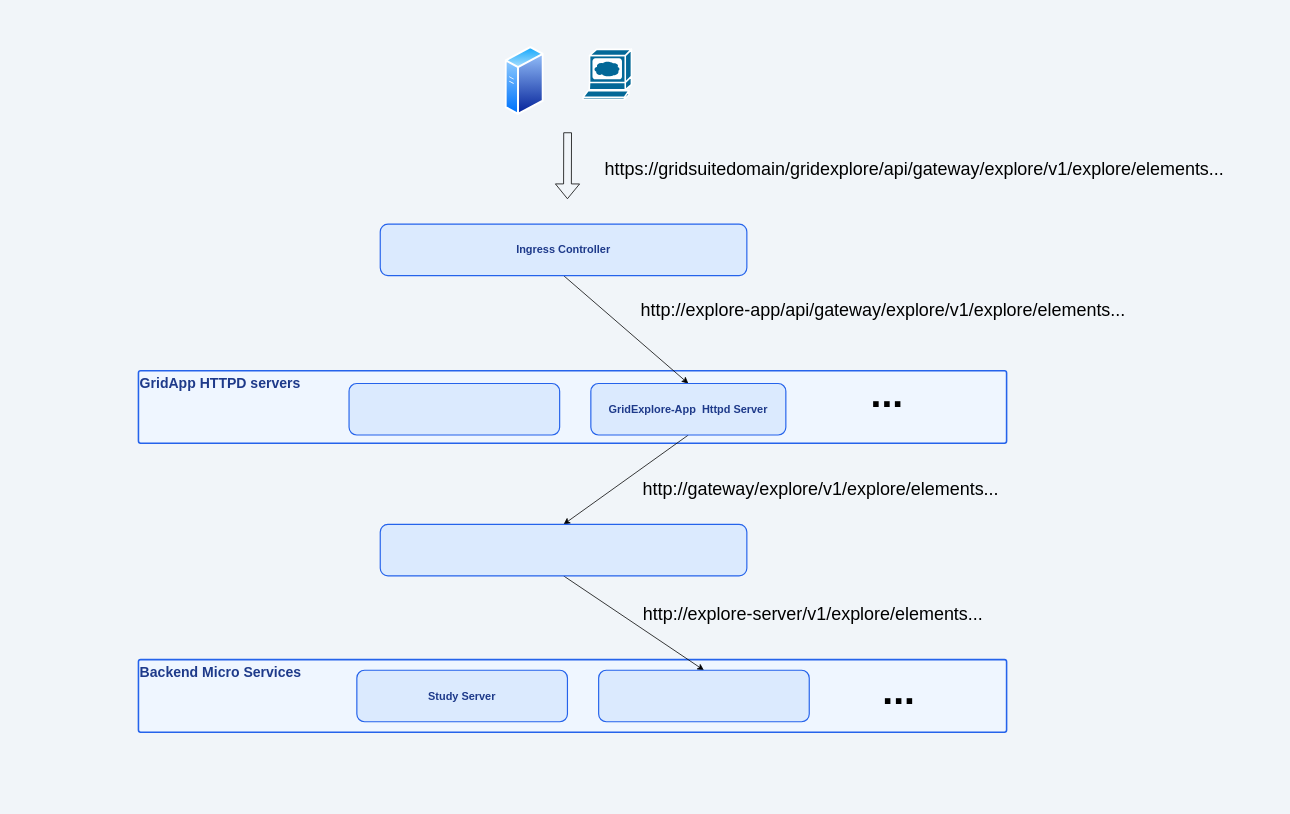
Image size: 1290x814. Some labels were removed from this diagram. Each missing label, with the centre of its shape:
"Explore Server" goes at [703,695].
"Gateway" goes at [563,549].
"GridStudy-App Httpd Server" goes at [454,409].
